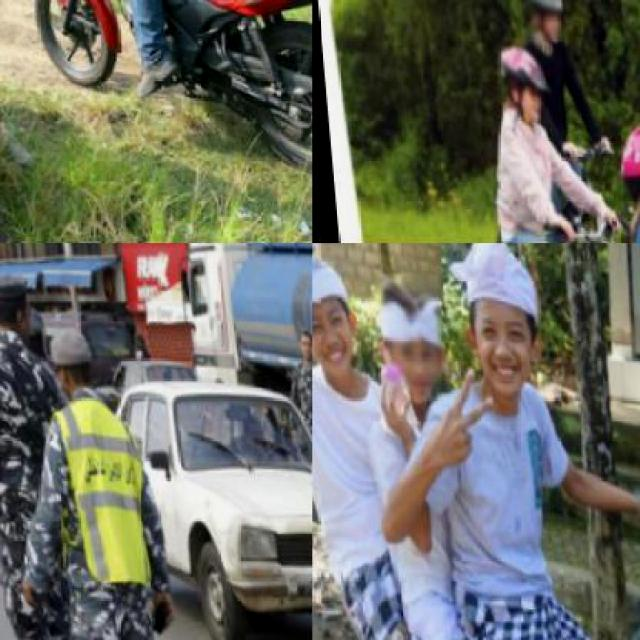With Helmet: (492, 33, 548, 125), (603, 106, 639, 229), (515, 0, 568, 43)
Without Helmet: (437, 243, 554, 408), (372, 270, 448, 392), (312, 248, 360, 352)
